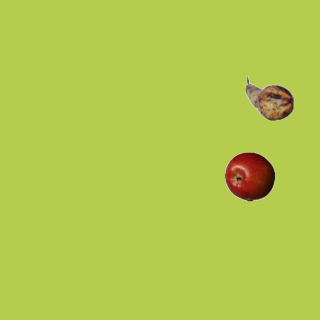Apple Braeburn: (224, 151, 274, 201)
Pear Abate: (244, 73, 294, 123)
